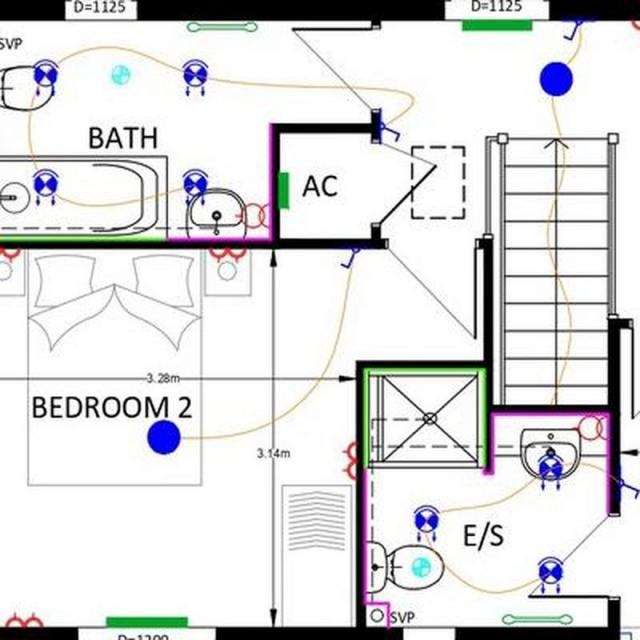Ceiling Mounted Continuous Extract FanWith Boost Mode Activated By Light Switch: (110, 65, 130, 83), (412, 558, 431, 576)
Double Socket: (341, 441, 356, 480), (209, 248, 246, 262), (5, 612, 42, 626)
Full Height Tiling: (362, 366, 486, 466), (0, 234, 159, 240)
Light Switch: (380, 120, 400, 142), (339, 247, 359, 268), (562, 20, 582, 40), (620, 478, 639, 499)
Low Energy Downlighter: (32, 168, 58, 205), (182, 58, 207, 96), (537, 556, 562, 594), (182, 168, 208, 204), (413, 505, 439, 541), (33, 60, 58, 94), (537, 454, 562, 488)
Low Energy Pendant Light: (146, 420, 180, 454), (539, 62, 572, 95)
Radiator: (106, 616, 186, 626), (461, 19, 532, 30), (278, 171, 288, 208)
Shaver Socket: (234, 202, 269, 228), (572, 414, 606, 440)
